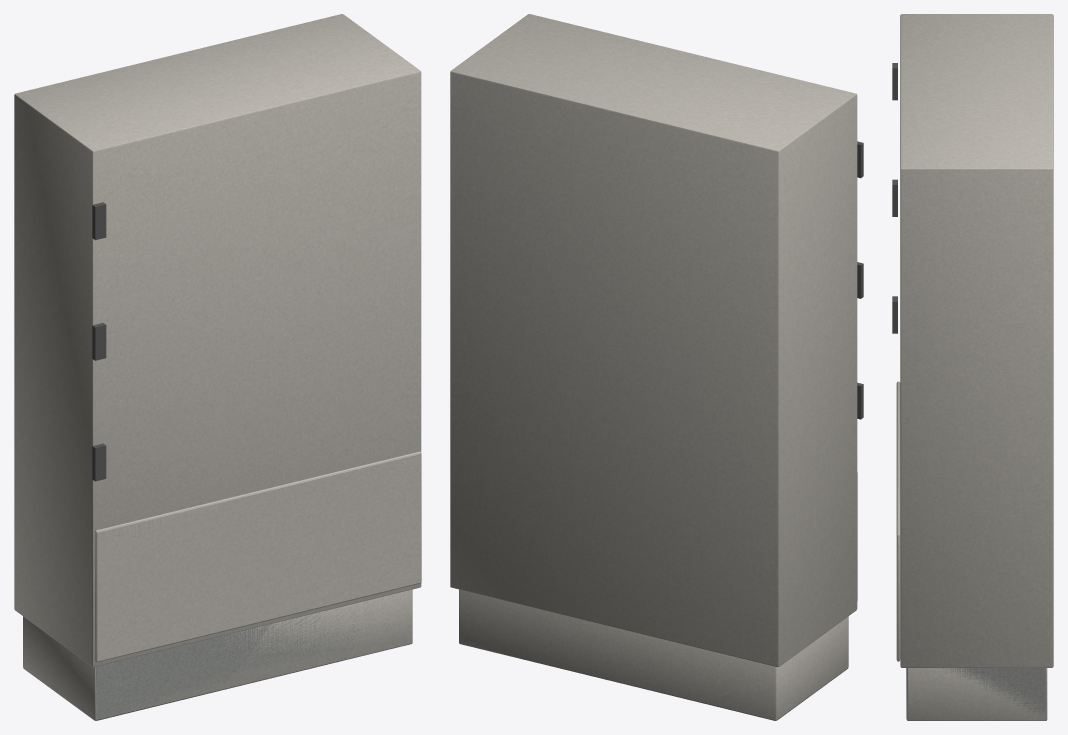
Rendered from SM_EBox_Body.fbx.
3 views of the same model, side by side, from view 1: azimuth 30°, elevation 25°; view 2: azimuth 150°, elevation 25°; view 3: azimuth 270°, elevation 25° (orthographic). The views are drawn at different scales.
Parts seen in each view (by area): view 1: SM_EBox_Body; view 2: SM_EBox_Body; view 3: SM_EBox_Body.
Part boxes in pixels (box(x1,y1,x2,y2)): SM_EBox_Body: box(14, 14, 421, 720); SM_EBox_Body: box(450, 14, 863, 720); SM_EBox_Body: box(892, 14, 1053, 720).
Size of the model in its own units: 60.3 by 100 by 26.3.
Materials: 3 (2 with a texture image).
